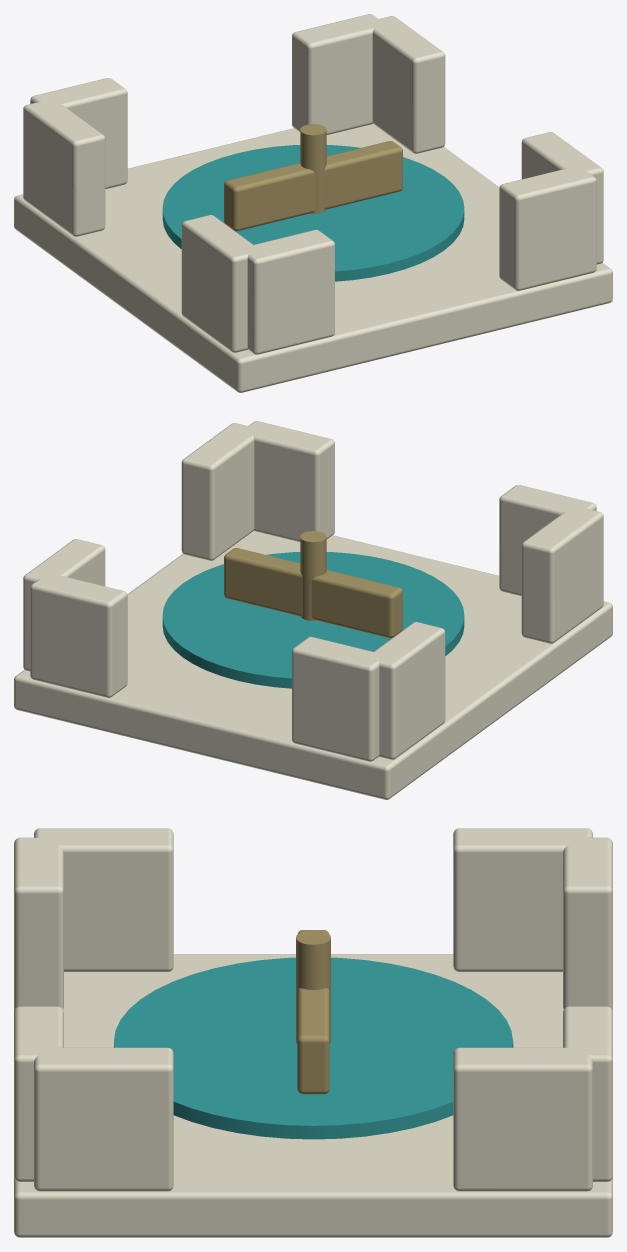
The model's file is water-clock-garden-and-hydraulic-puzzles-rotary-channe-161fbfea__31947.glb.
3 renders of one model, top to bottom at view 1: azimuth 30°, elevation 25°; view 2: azimuth 150°, elevation 25°; view 3: azimuth 270°, elevation 25°, orthographic. The views are drawn at different scales.
Visible parts, largest first — view 1: rotary-channel-selector; view 2: rotary-channel-selector; view 3: rotary-channel-selector.
Part boxes in pixels (left/top/right/bottom): rotary-channel-selector: left=14, top=14, right=612, bottom=392; rotary-channel-selector: left=14, top=421, right=612, bottom=799; rotary-channel-selector: left=14, top=828, right=612, bottom=1237.
Size of the model in its own units: 1.15 by 0.4 by 1.2.
